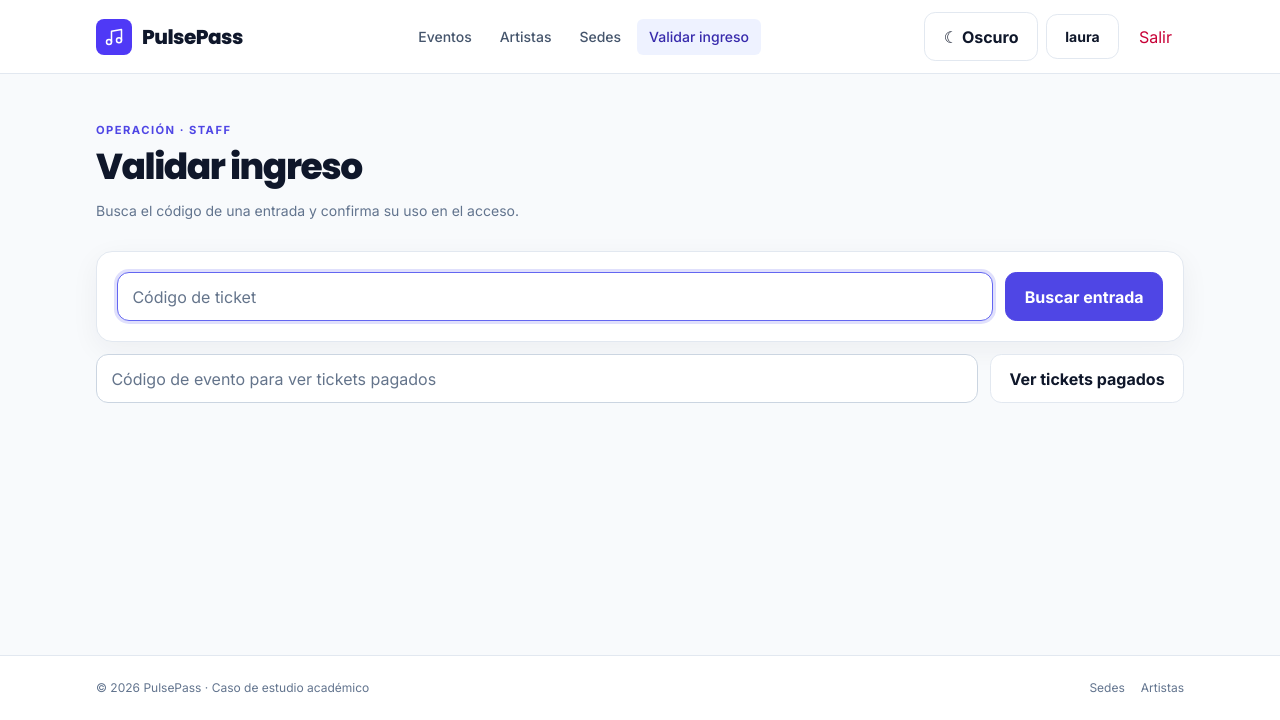
Test case: STAFF: validación de ingreso › busca un ticket PAID, lo marca como usado y muestra el éxito
In the field named "Código del ticket": (555, 297) [117,272,993,321], type "TKT-8F2A1C"
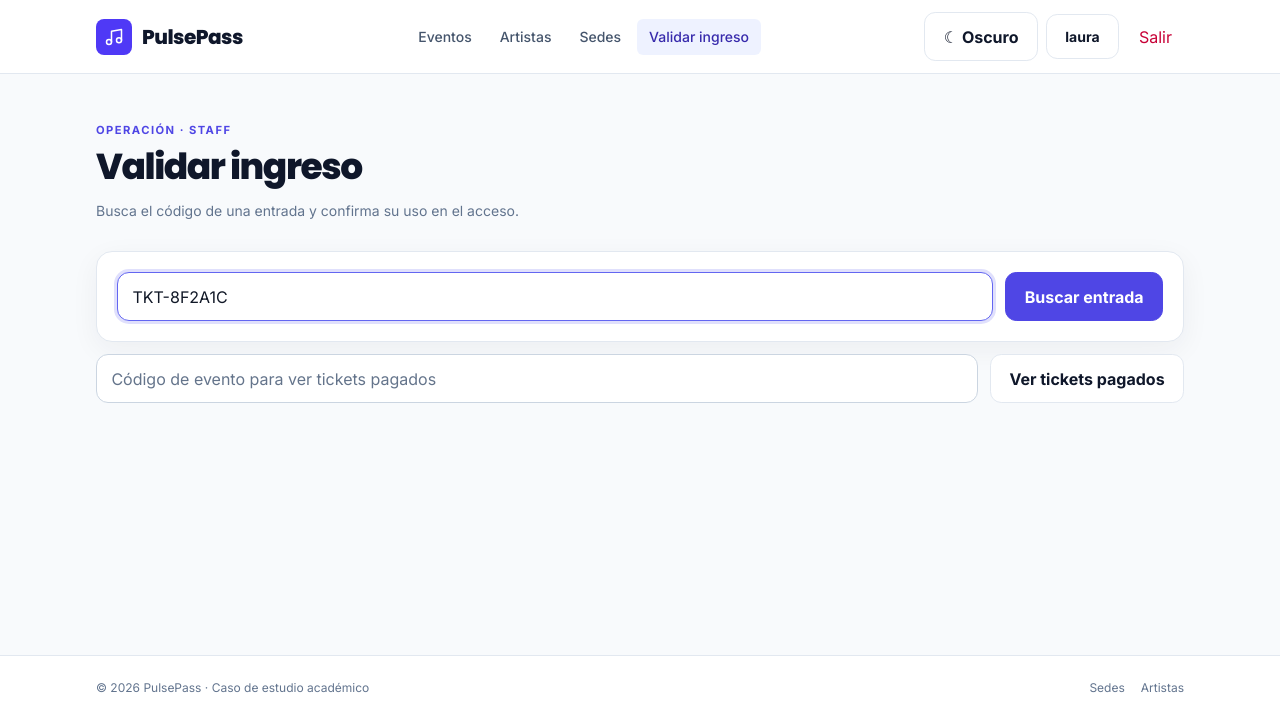
Click the button "Buscar entrada": click(1084, 297) [1005,272,1163,321]
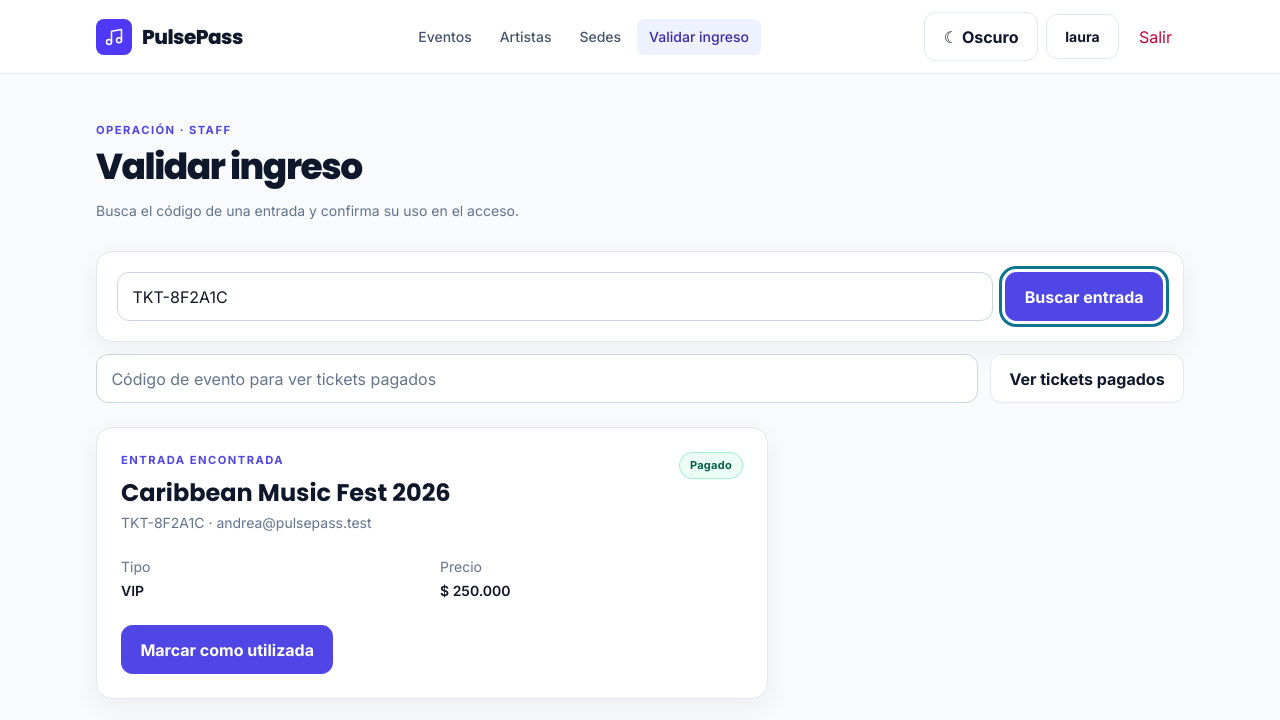
Click the button "Marcar como utilizada": click(227, 650) [121,625,333,674]
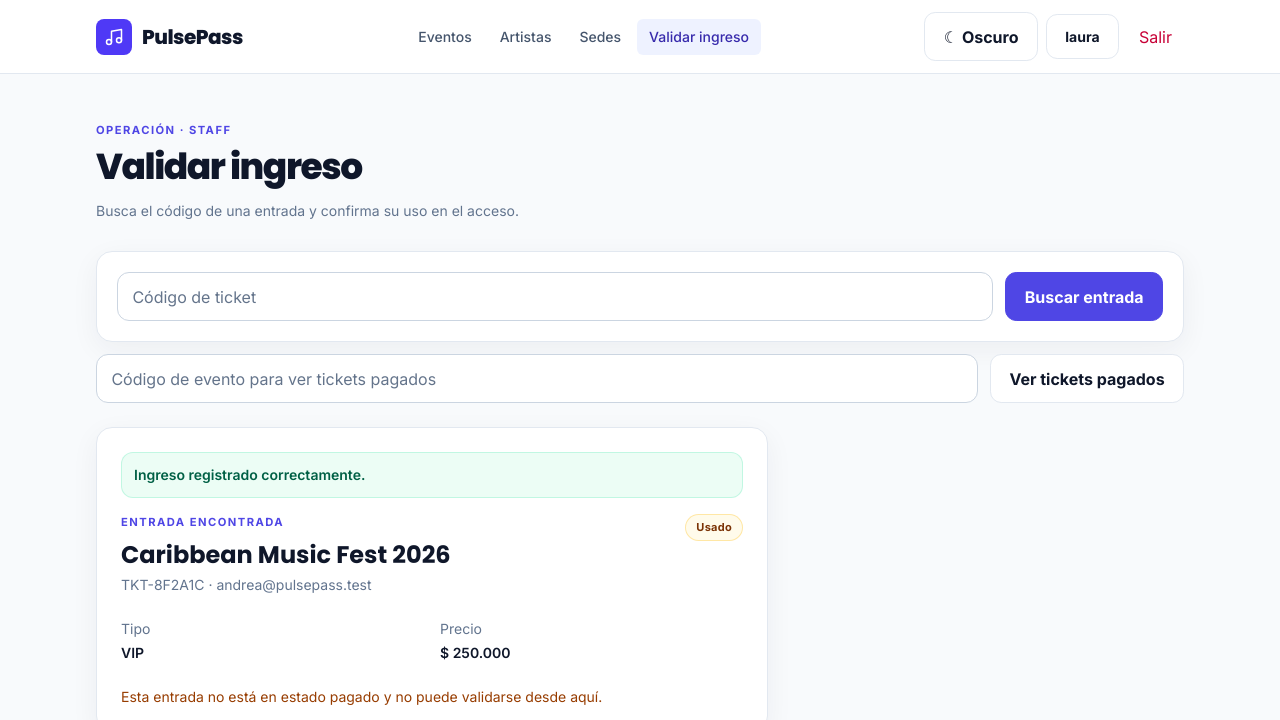
Result: the text "Ingreso registrado correctamente." is shown at [121,452,743,498]
Result: the text "Usado" is shown at [685,514,743,541]
